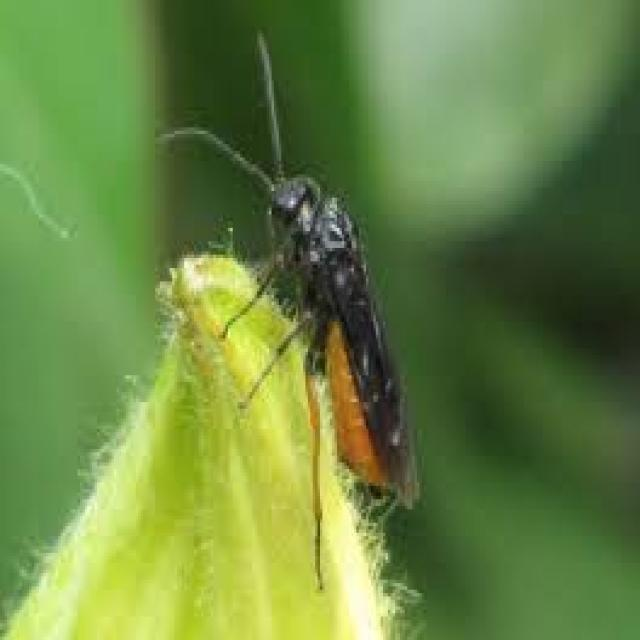Saw Fly: (157, 23, 418, 597)
